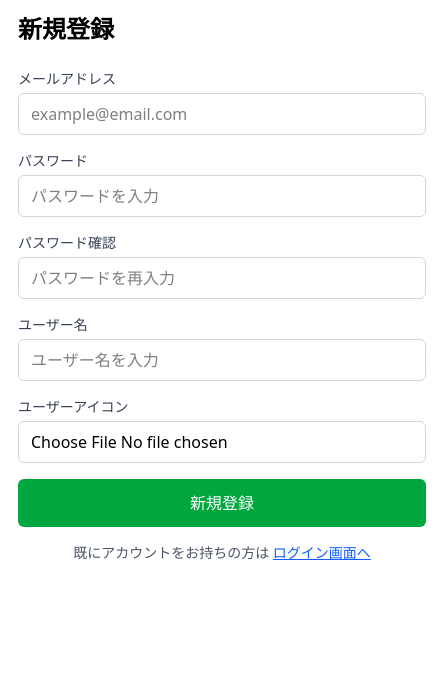
Test case: SignupPage › バリデーション › 必須フィールドが空の場合エラーが表示される
Click the button "新規登録" at (222, 503), box top-left (18, 479), bottom-right (426, 527)
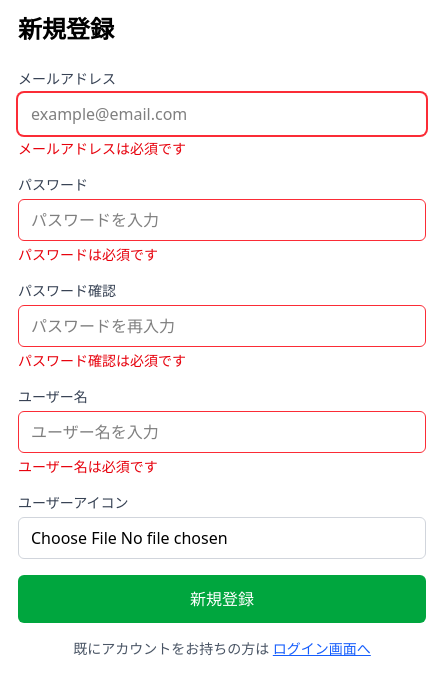
Expected: the message with test id "email-error" reads "メールアドレスは必須です", top-left (18, 139), bottom-right (186, 158)
Expected: the message with test id "password-error" reads "パスワードは必須です", top-left (18, 245), bottom-right (158, 264)
Expected: the message with test id "confirmPassword-error" reads "パスワード確認は必須です", top-left (18, 351), bottom-right (186, 370)
